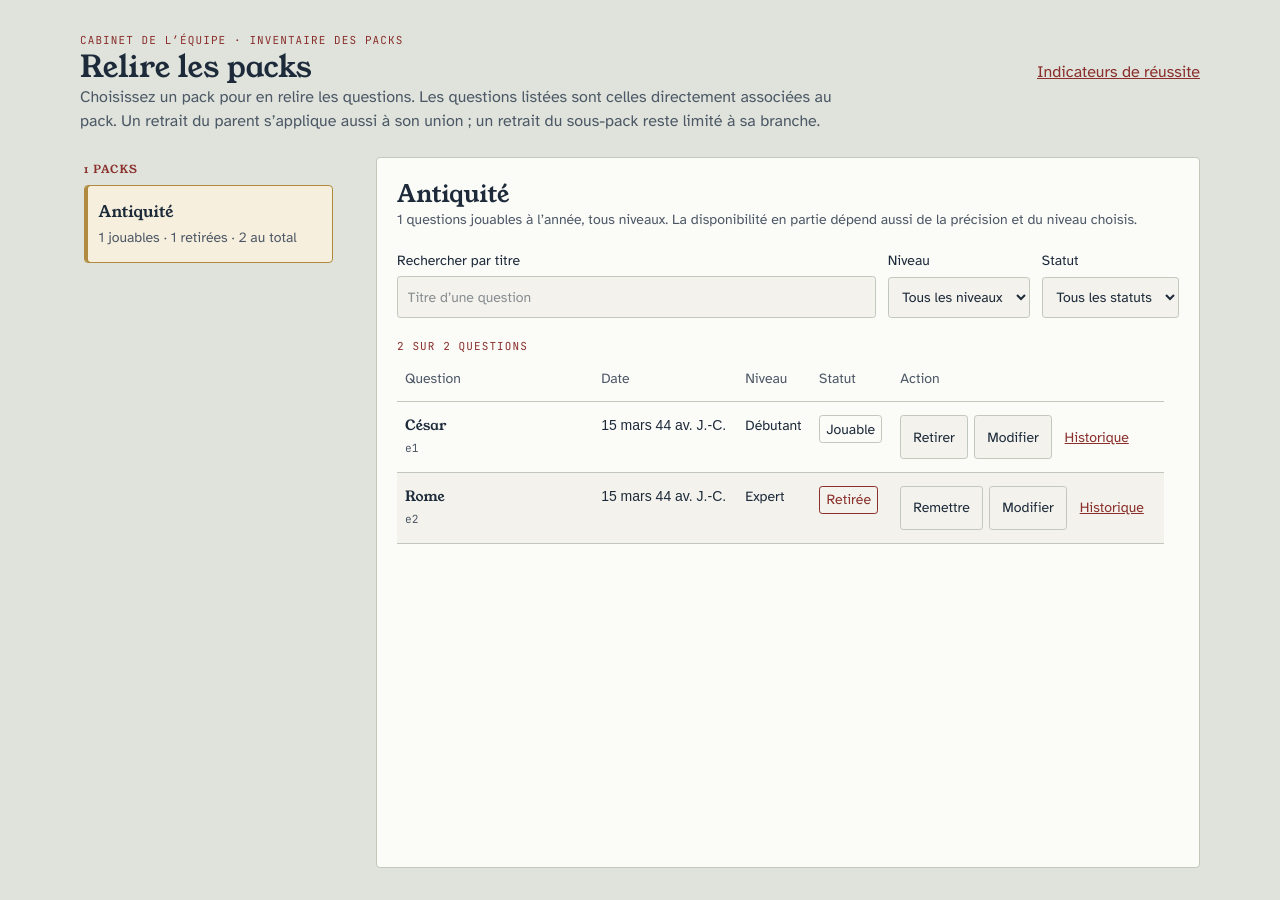
it: enregistre titre/niveau/motif une seule fois et actualise liste et décomptes
Click the button "Modifier" in the row of "César" at (1013, 437), box [974,415,1052,459]
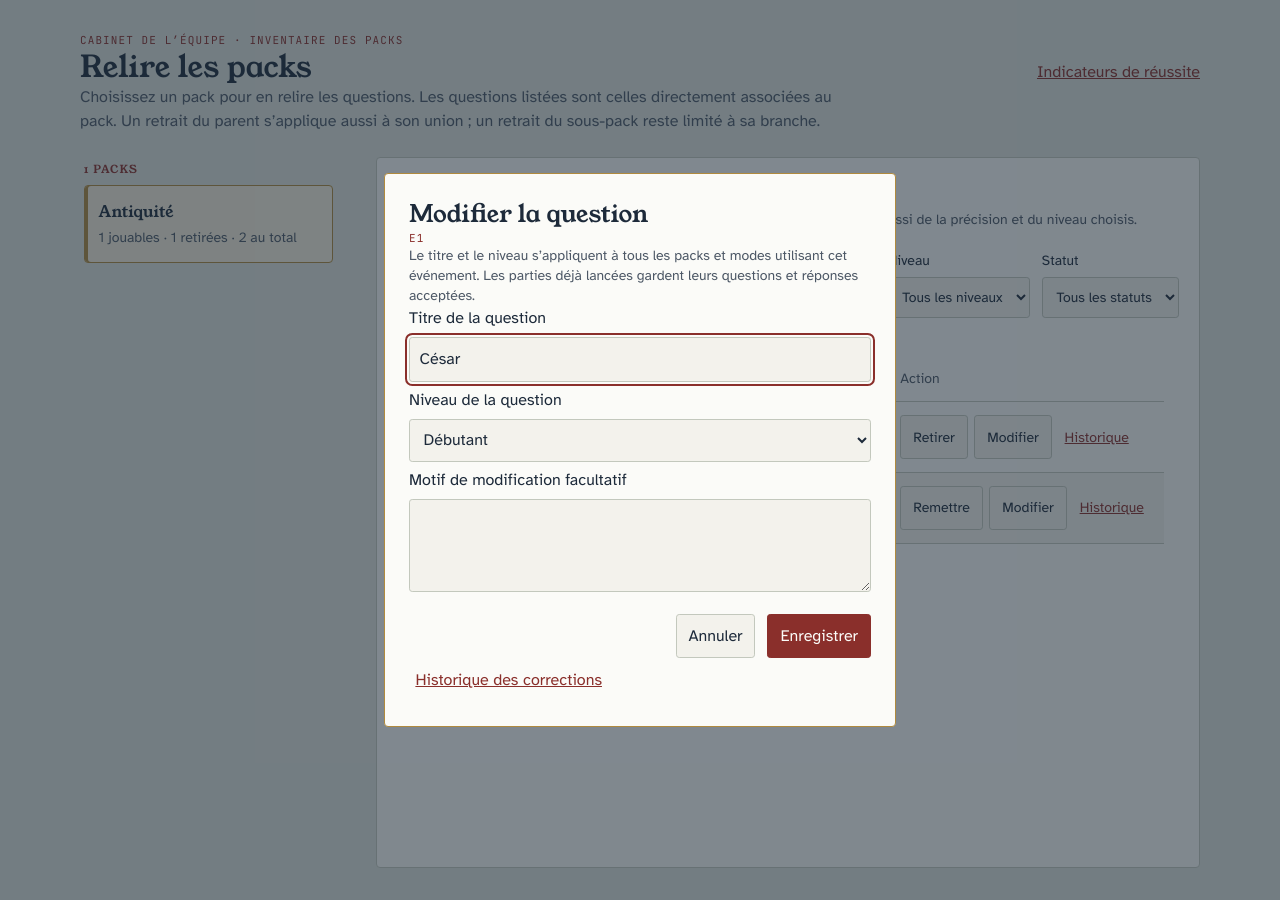
Replace the text in the field labelled "Titre de la question" with "Mort de César" at (640, 359), box [409,337,871,382]
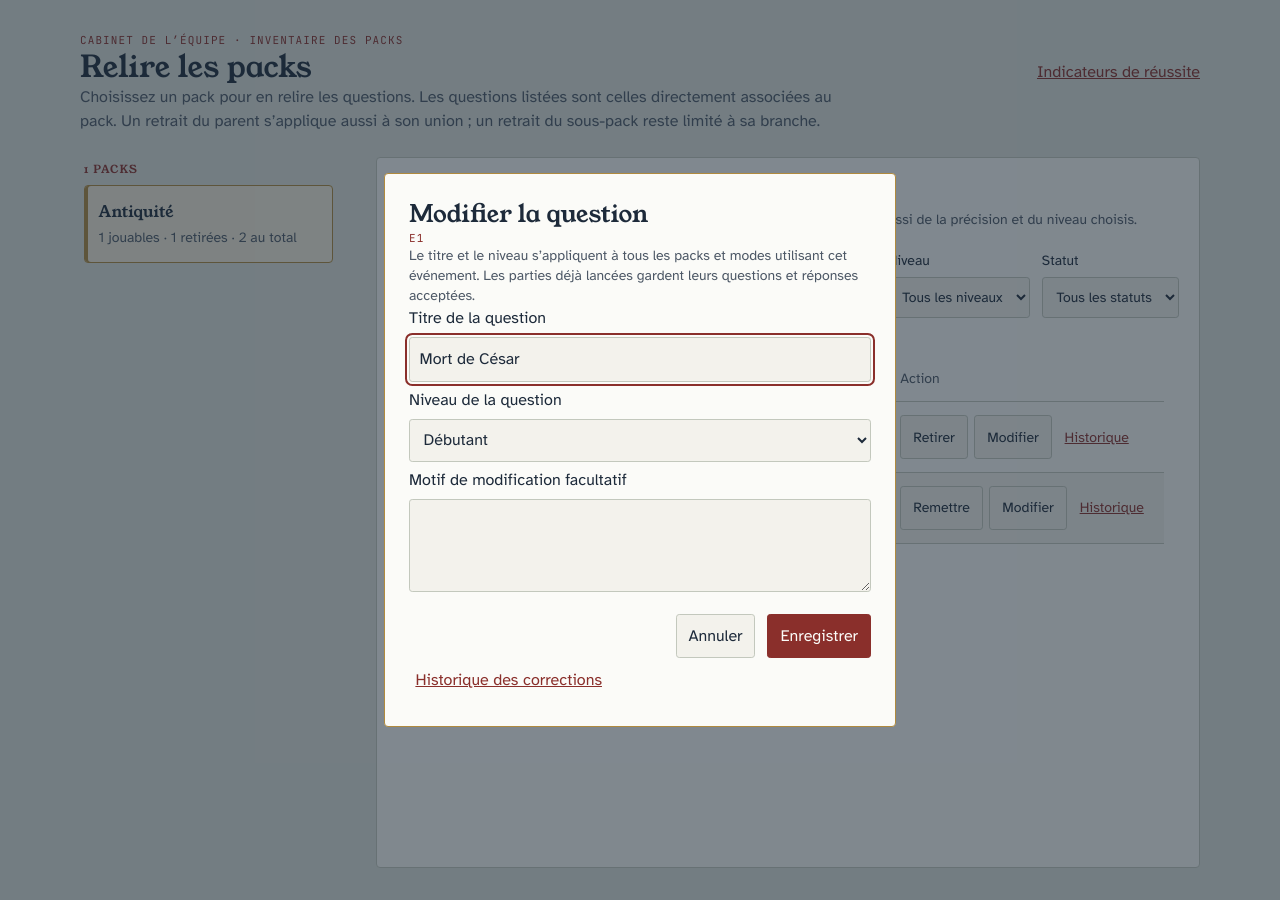
Select "Intermédiaire" in the dropdown labelled "Niveau de la question" at (640, 440), box [409,419,871,462]
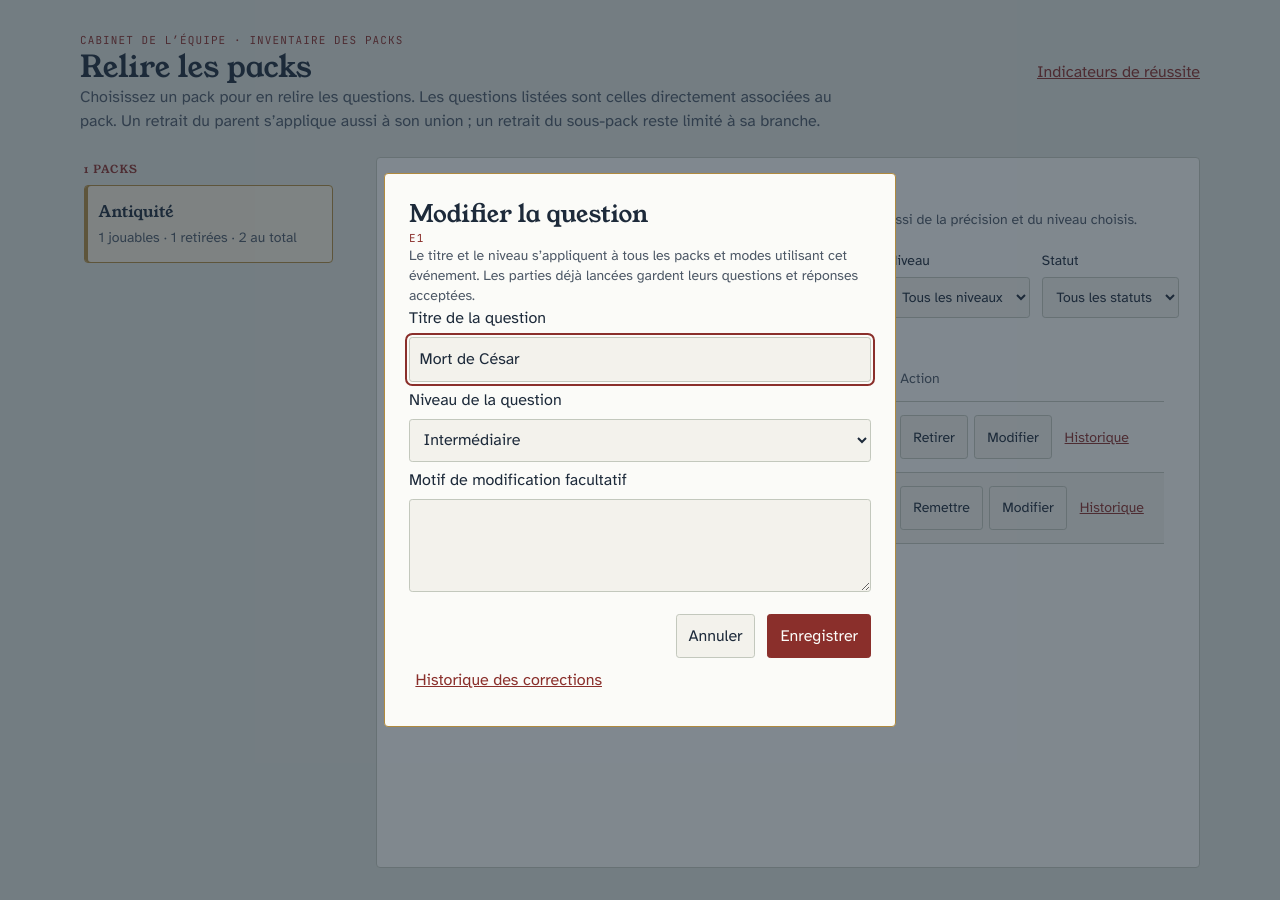
Type "Précision" into the text box labelled "Motif de modification facultatif" at (640, 545), box [409,499,871,592]
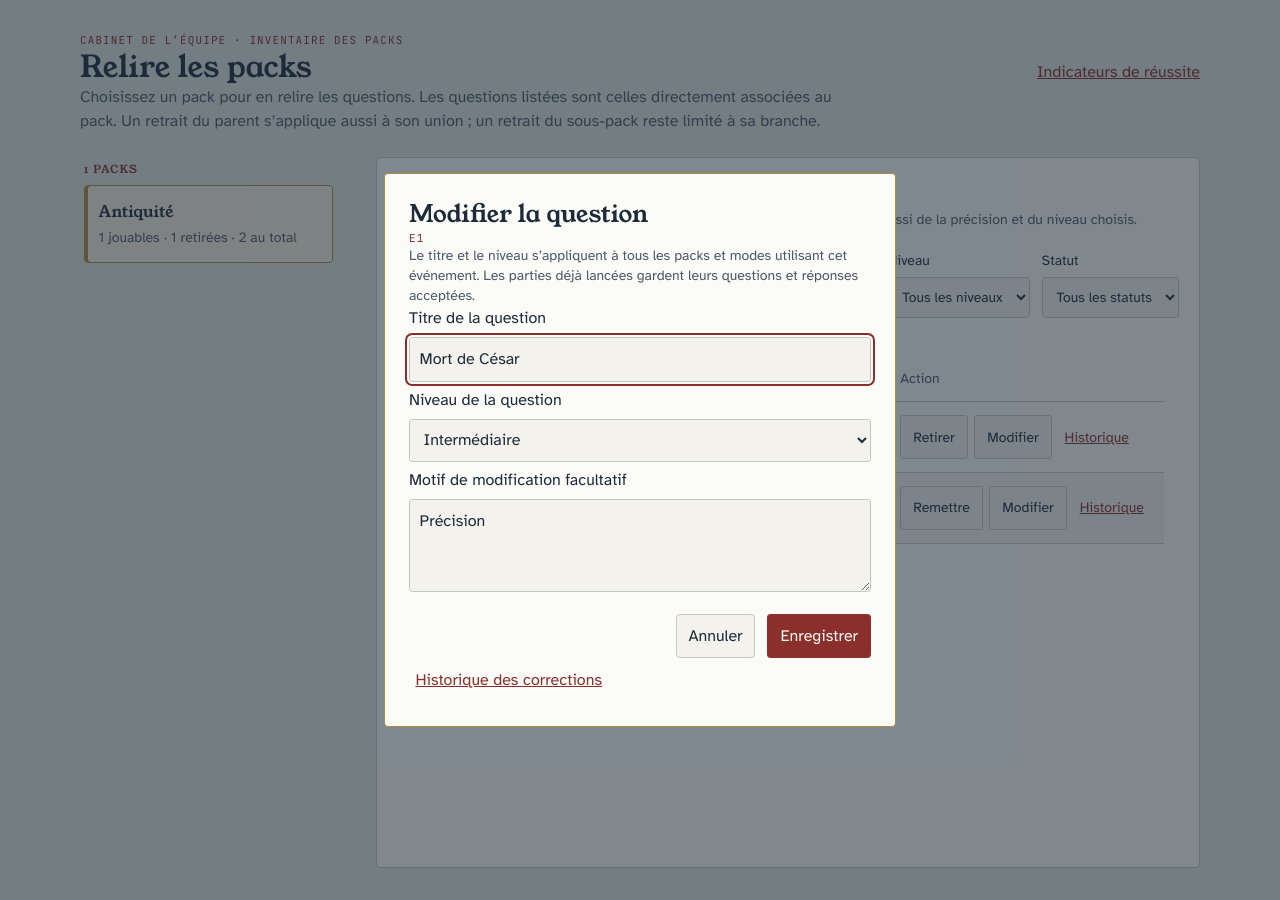
Submit the form, box [409,306,871,658]
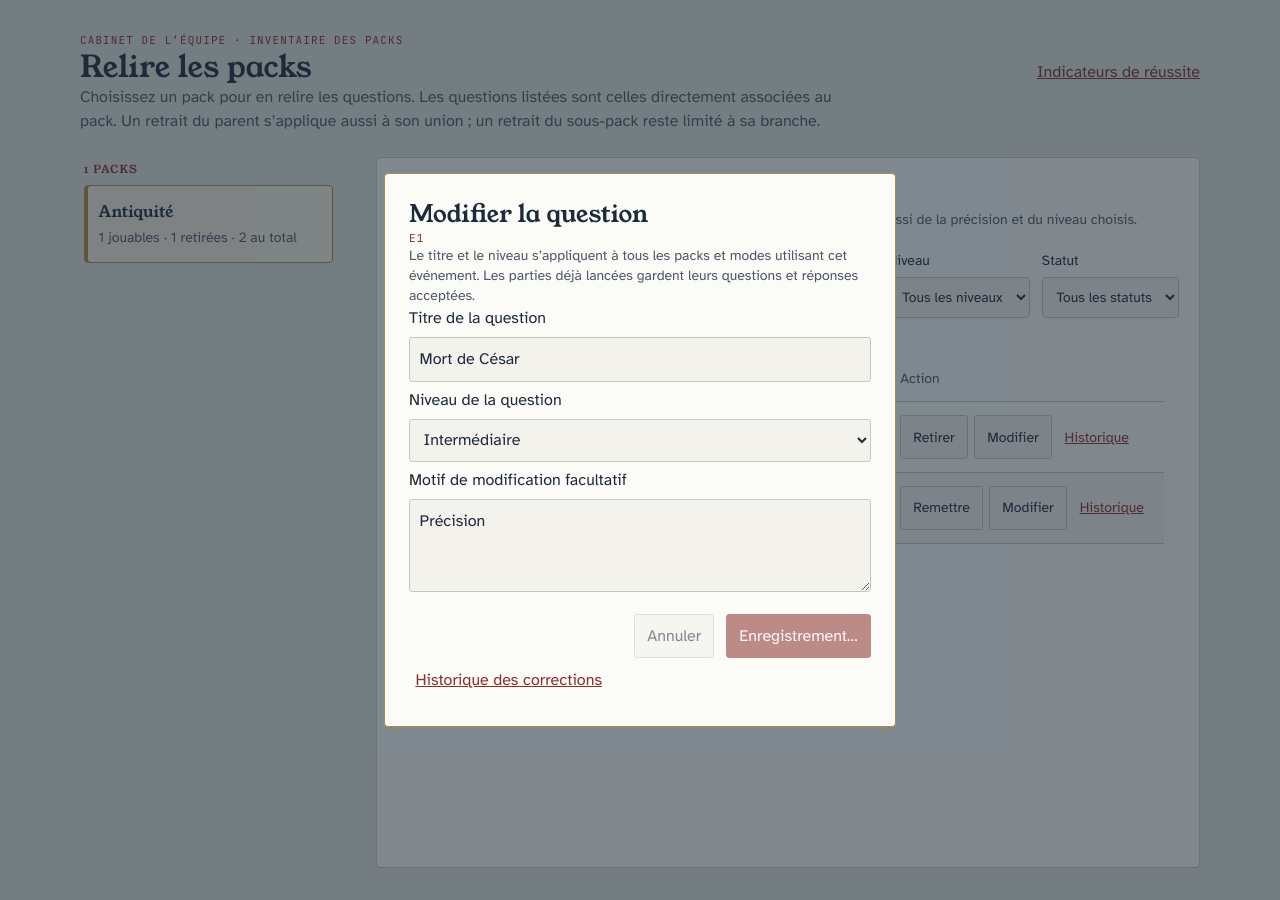
Submit the form, box [409,306,871,658]
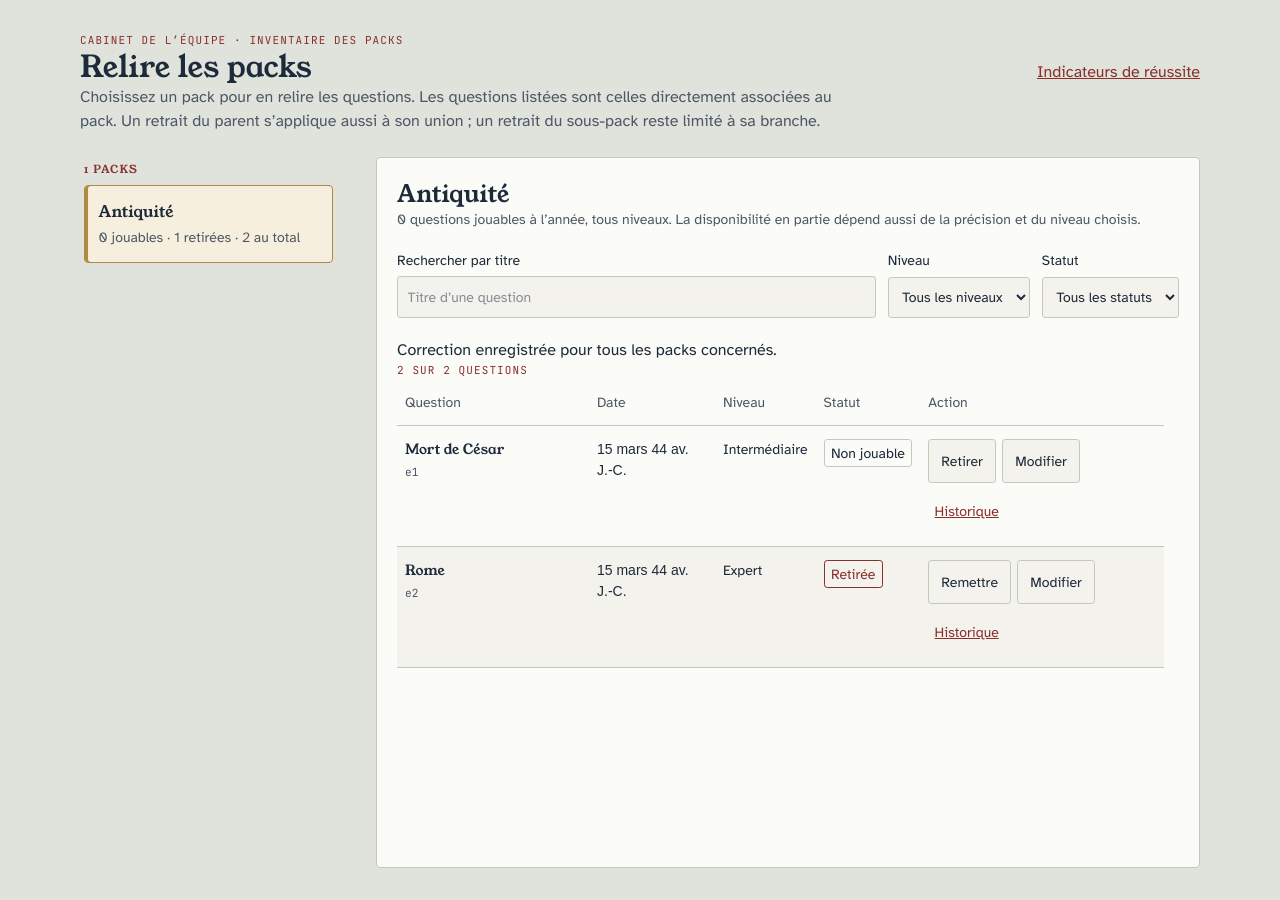
Check: the dialog is gone
Check: the text "Mort de César" is shown, box [405,439,504,459]
Check: the text "0 jouables · 1 retirées · 2 au total" is shown, box [99,228,318,248]
